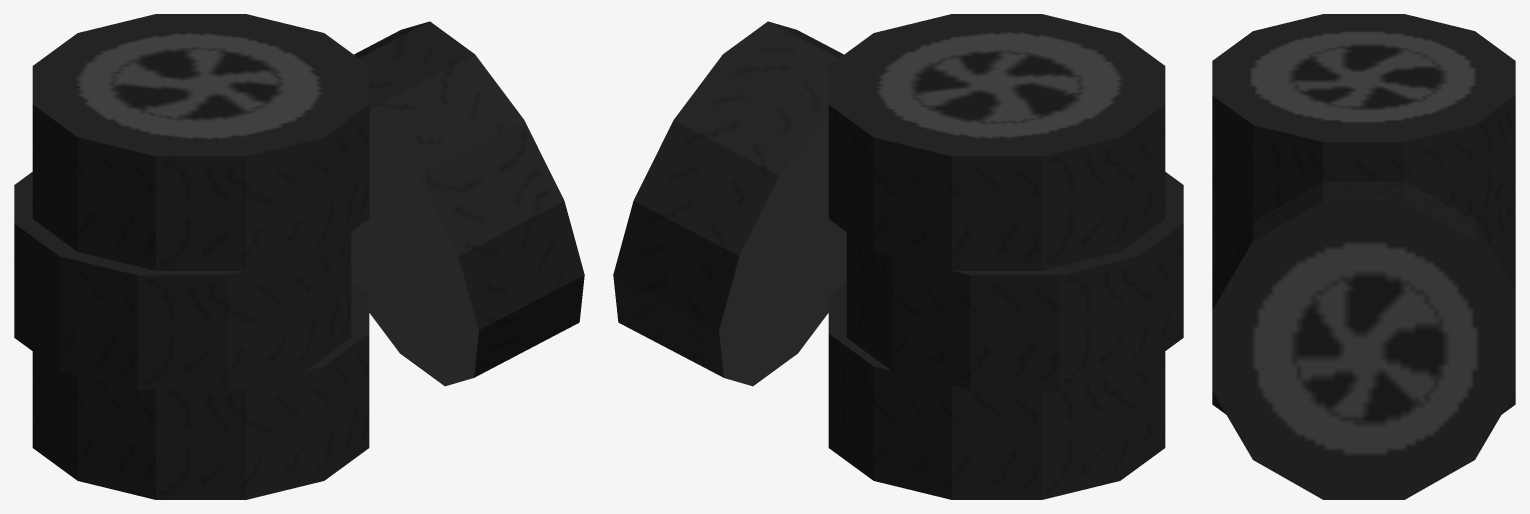
Rendered from Tires.fbx.
3 views of the same model, side by side, from view 1: azimuth 30°, elevation 25°; view 2: azimuth 150°, elevation 25°; view 3: azimuth 270°, elevation 25° (orthographic). The views are drawn at different scales.
Visible parts, largest first — view 1: cylinder_2, cylinder_3, cylinder_1, cylinder; view 2: cylinder_2, cylinder_3, cylinder_1, cylinder; view 3: cylinder_3, cylinder_2, cylinder_1.
Part boxes in pixels (x1,y1,x2,y2): cylinder_2: (32, 14, 369, 270); cylinder_3: (351, 21, 584, 386); cylinder_1: (14, 172, 351, 389); cylinder: (32, 282, 369, 499); cylinder_2: (828, 14, 1165, 270); cylinder_3: (613, 21, 846, 386); cylinder_1: (846, 172, 1183, 389); cylinder: (828, 282, 1165, 499); cylinder_3: (1212, 181, 1515, 499); cylinder_2: (1212, 14, 1515, 225); cylinder_1: (1212, 198, 1515, 290).
Size of the model in its own units: 168 by 112 by 100.
1 material, 1 textured.
